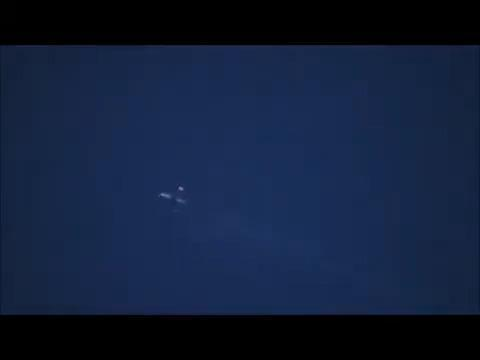Plane: (140, 177, 209, 219)
